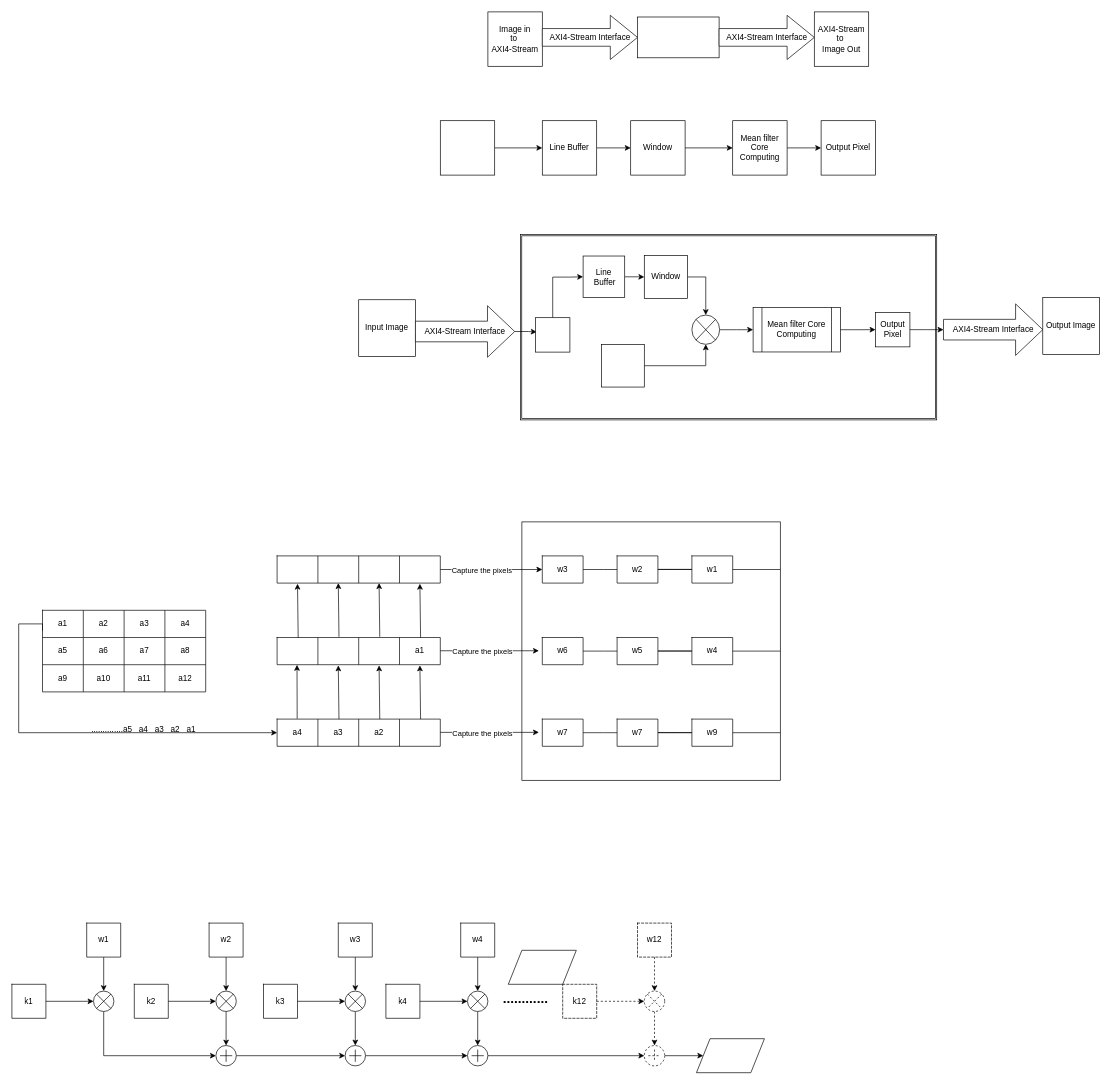
This 1114x1085 diagram has some shape labels left out. The centre of each missing label's shape, as x and y in pixels:
Filtered Pixel: the point at 730,1055
Input Pixel: the point at 552,334
Input Pixels: the point at 467,147
Kernel: the point at 622,365
Vivado HLS Mean Filter (C/C++): the point at 678,37
